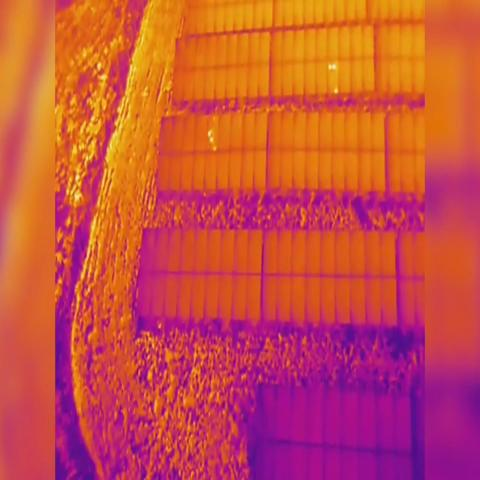fault: (208, 136, 214, 147), (333, 85, 339, 95), (208, 128, 212, 137), (212, 146, 217, 152), (331, 64, 336, 69), (328, 64, 331, 71)
